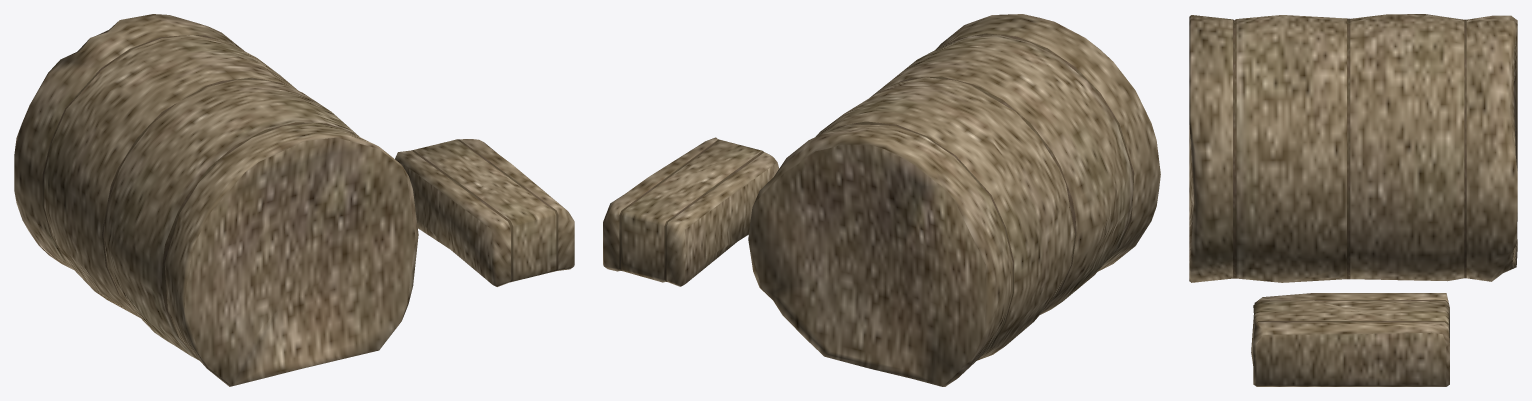
Rendered from bale_a.glb.
The picture shows the model from 3 angles, left to right: view 1: azimuth 30°, elevation 25°; view 2: azimuth 150°, elevation 25°; view 3: azimuth 270°, elevation 25°; orthographic projection. The views are drawn at different scales.
Parts seen in each view (by area): view 1: bale_a; view 2: bale_a; view 3: bale_a.
Part boxes in pixels (<box>): bale_a: <box>14,14,574,386</box>; bale_a: <box>603,14,1160,386</box>; bale_a: <box>1189,14,1517,386</box>.
Bounding box in the file's own units: 2.56 × 1.3 × 1.74.
Materials: 1 (1 with a texture image).
